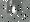person: (5, 2, 12, 17), (12, 6, 18, 15)
